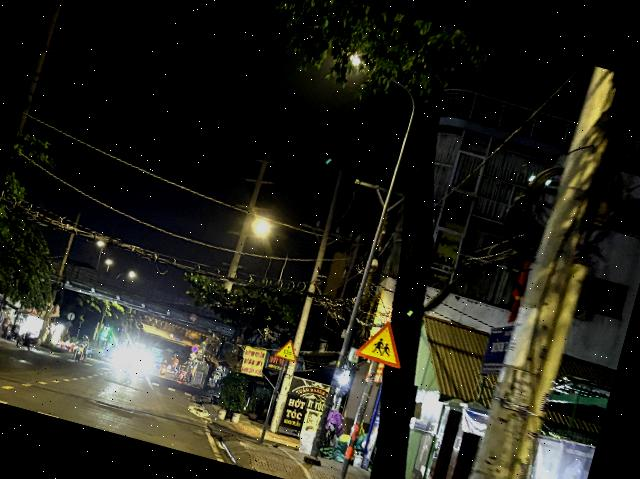tre-em-qua-duong: (352, 312, 413, 369)
